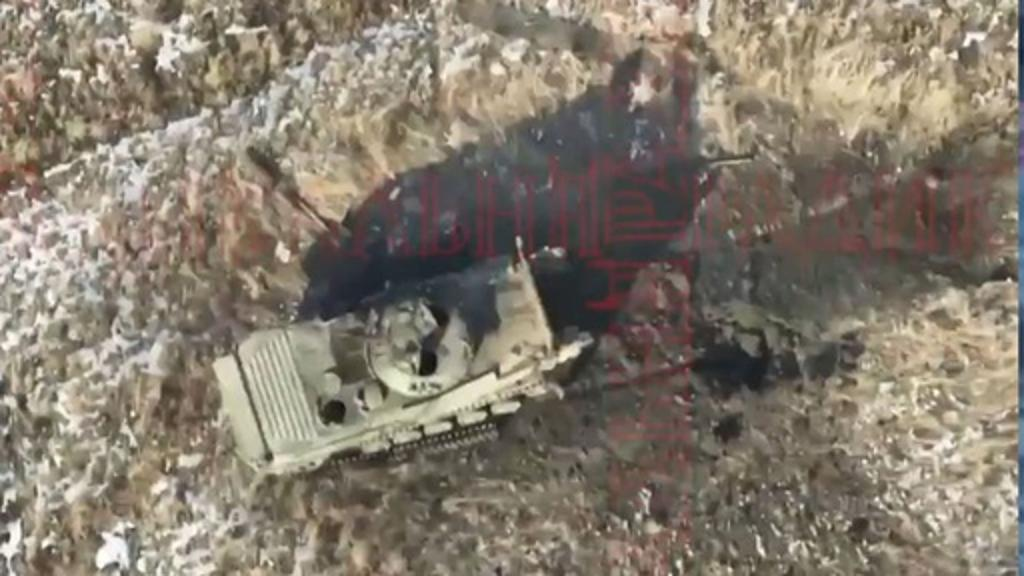APC-IFV: (204, 246, 562, 478)
